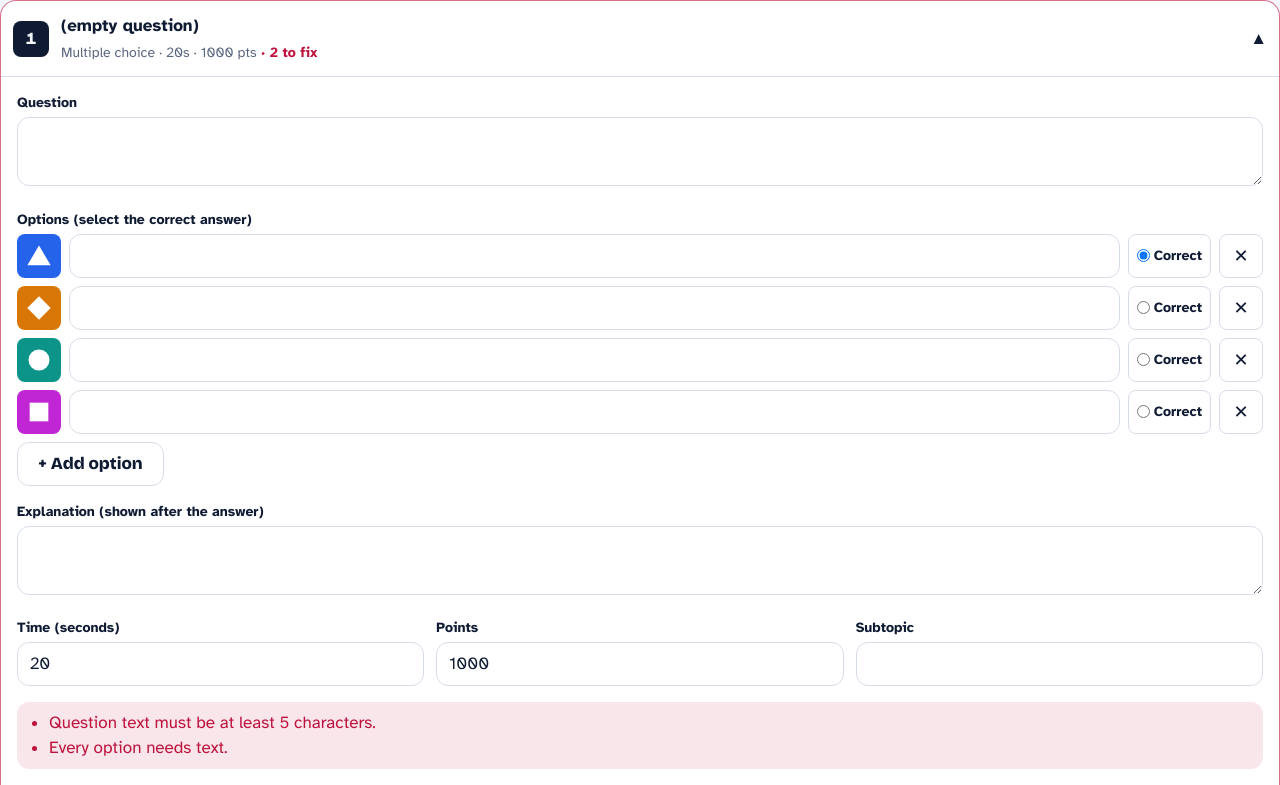
Test: QuestionEditor › adds an option up to the maximum of five
Click the button "+ Add option": (90,464) x1=17 y1=442 x2=164 y2=486
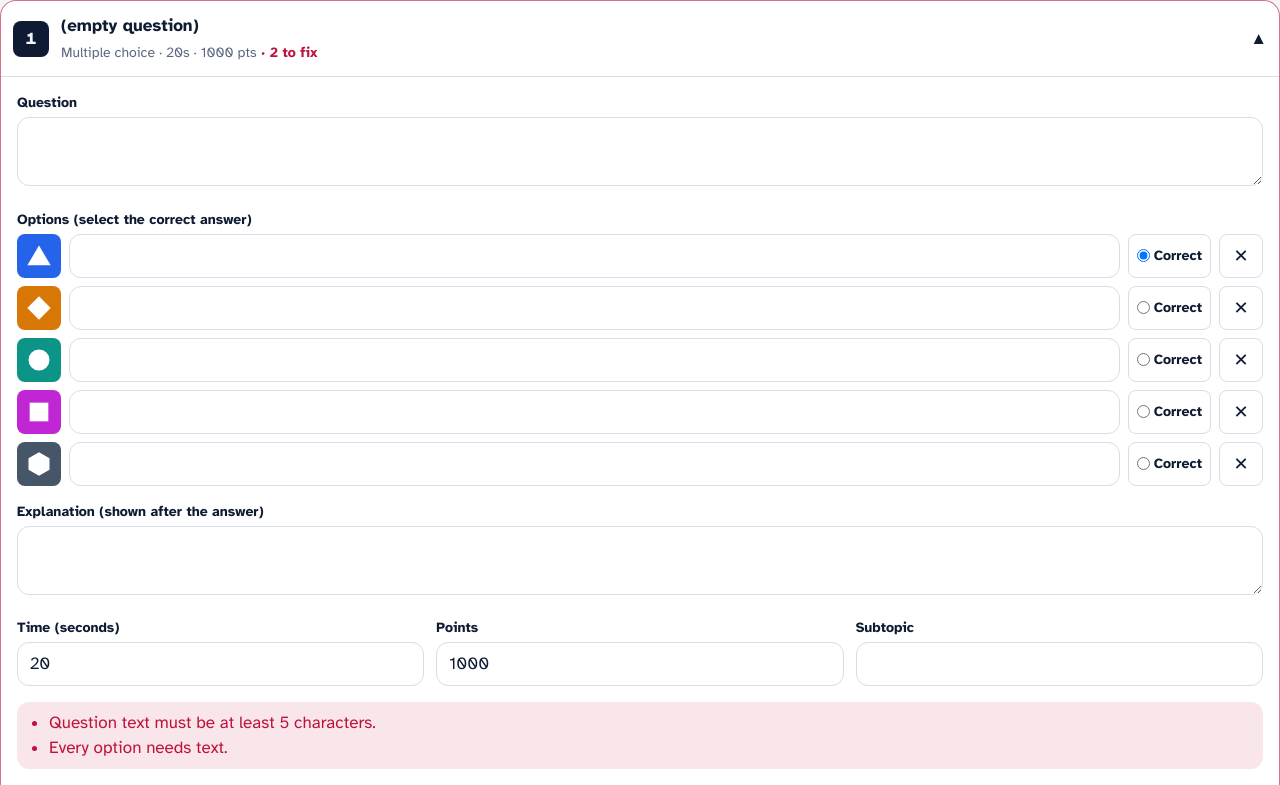
Result: the field named "Option E" is shown at x1=69 y1=442 x2=1120 y2=486
Result: the button "Add option" is gone
